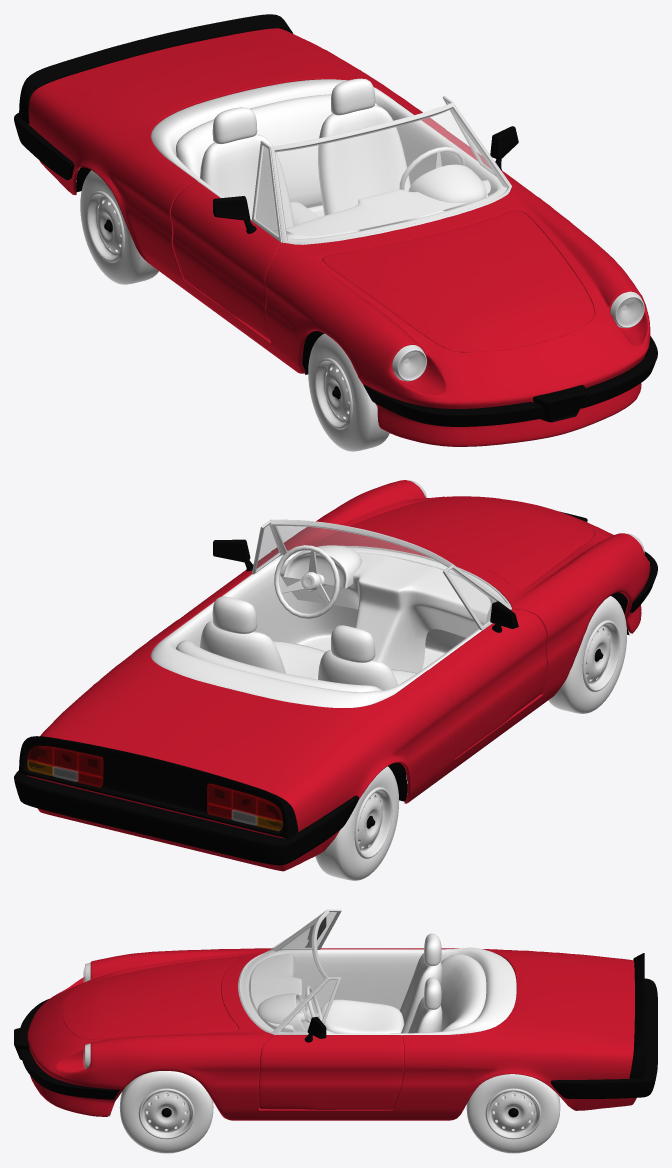
File: red_car_1.glb
The picture shows the model from 3 angles, top to bottom: view 1: azimuth 30°, elevation 25°; view 2: azimuth 150°, elevation 25°; view 3: azimuth 270°, elevation 25°; orthographic projection. The views are drawn at different scales.
Parts seen in each view (by area): view 1: Car Model, Circle.072, Circle.064, Plane.027, Circle.057, Circle.068, Circle.075, Circle.061, Circle.063, Circle.073, Circle.053, Circle.059 (+10 smaller); view 2: Car Model, Circle.068, Circle.072, Circle.063, Circle.073, Circle.057, Circle.062, Plane.027, Plane.024, Circle.070, Circle.053, Circle.064 (+11 smaller); view 3: Car Model, Circle.057, Circle.072, Circle.068, Circle.064, Circle.053, Circle.070, Circle.062, Plane.027, Circle.075, Plane.025, Circle.071 (+9 smaller).
Boxes of the visible parts, left/top/right/bottom form: Car Model: left=28, top=28, right=650, bottom=446; Circle.072: left=322, top=209, right=594, bottom=352; Circle.064: left=275, top=108, right=507, bottom=241; Plane.027: left=200, top=78, right=410, bottom=230; Circle.057: left=170, top=125, right=535, bottom=340; Circle.068: left=151, top=79, right=507, bottom=241; Circle.075: left=176, top=94, right=377, bottom=208; Circle.061: left=363, top=336, right=657, bottom=426; Circle.063: left=19, top=14, right=293, bottom=123; Circle.073: left=286, top=180, right=490, bottom=238; Circle.053: left=308, top=333, right=389, bottom=451; Circle.059: left=270, top=102, right=511, bottom=244; Car Model: left=27, top=480, right=650, bottom=871; Circle.068: left=151, top=547, right=504, bottom=707; Circle.072: left=323, top=496, right=594, bottom=588; Circle.063: left=19, top=736, right=298, bottom=838; Circle.073: left=280, top=552, right=490, bottom=672; Circle.057: left=181, top=550, right=547, bottom=757; Circle.062: left=14, top=770, right=358, bottom=865; Plane.027: left=200, top=596, right=397, bottom=690; Plane.024: left=27, top=746, right=282, bottom=831; Circle.070: left=315, top=766, right=399, bottom=880; Circle.053: left=548, top=596, right=626, bottom=713; Circle.064: left=276, top=526, right=505, bottom=601; Car Model: left=27, top=948, right=636, bottom=1120; Circle.057: left=259, top=948, right=404, bottom=1109; Circle.072: left=62, top=957, right=238, bottom=1039; Circle.068: left=240, top=947, right=516, bottom=1035; Circle.064: left=241, top=918, right=323, bottom=1031; Circle.053: left=119, top=1071, right=213, bottom=1153; Circle.070: left=466, top=1074, right=560, bottom=1153; Circle.062: left=551, top=978, right=657, bottom=1098; Plane.027: left=400, top=933, right=442, bottom=1033; Circle.075: left=440, top=954, right=486, bottom=1031; Plane.025: left=321, top=999, right=404, bottom=1033; Circle.071: left=485, top=1088, right=541, bottom=1139.
Bounding box in the file's own units: 0.4582 × 0.3158 × 1.1.
